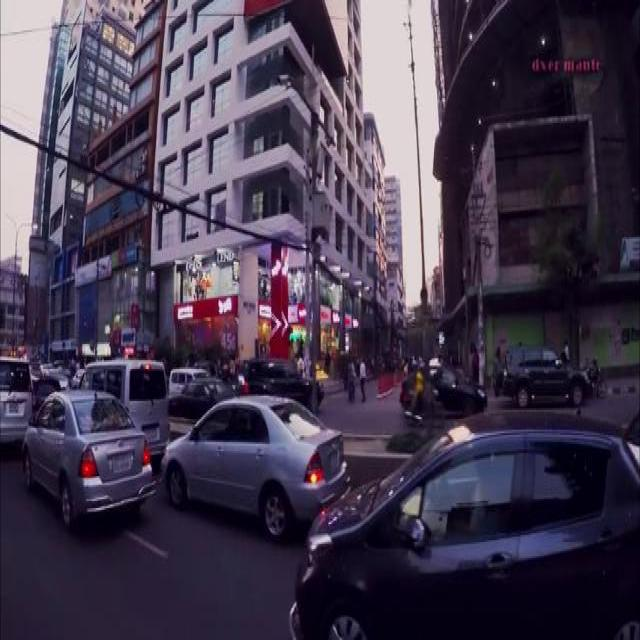car: (290, 406, 638, 636), (160, 391, 350, 534), (22, 387, 154, 524), (399, 362, 486, 413), (168, 376, 228, 414), (31, 374, 60, 409), (166, 366, 208, 388)
minivan: (0, 356, 34, 444)
suv: (499, 343, 588, 400), (233, 356, 323, 404)
van: (77, 356, 169, 454)
